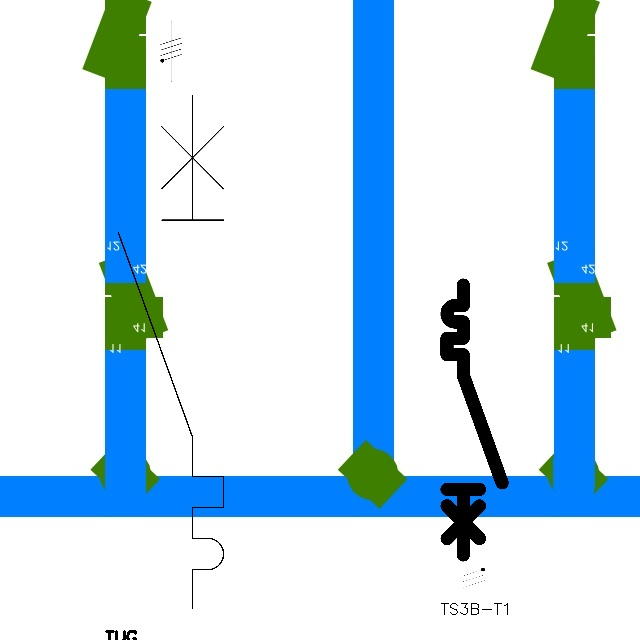interruptor_termomagnetico: (105, 82, 237, 622), (440, 278, 509, 562)
